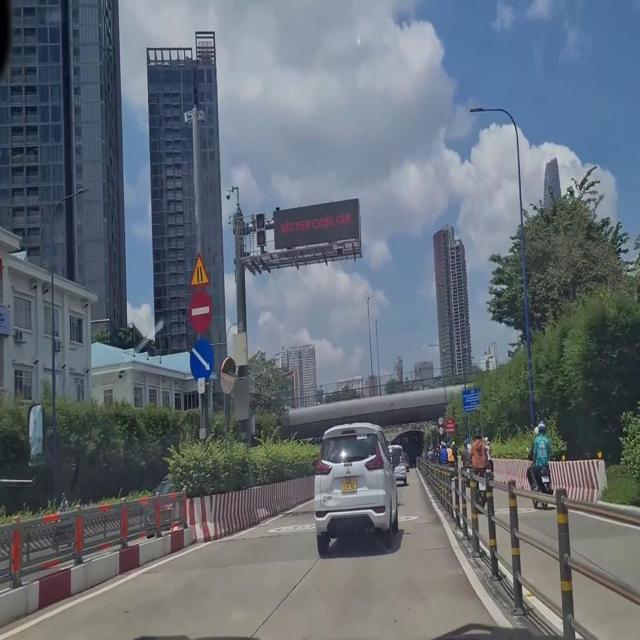Cấm đi ngược chiều: (185, 289, 213, 336)
Hướng phải đi vòng sang phải: (186, 338, 216, 387)
Khác: (460, 388, 480, 411)
Đường hẹp: (184, 249, 212, 287)
